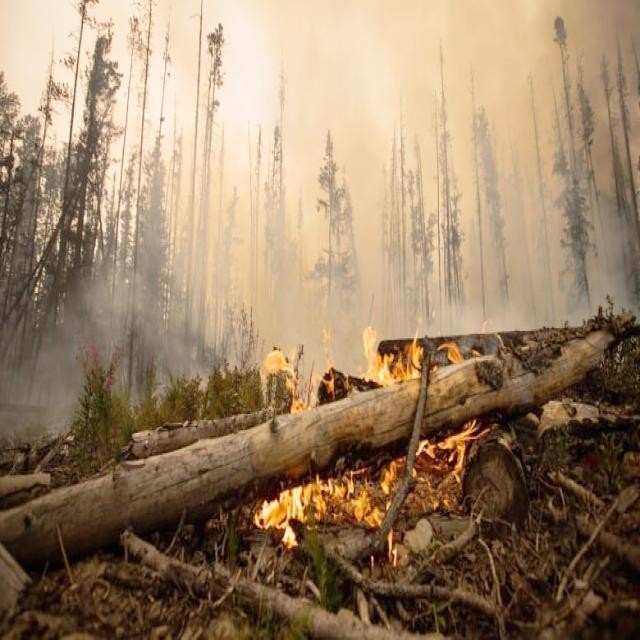api: (263, 317, 479, 416), (255, 456, 399, 550), (420, 416, 492, 484)
asap: (10, 203, 255, 439), (273, 1, 405, 380), (418, 136, 640, 334)
